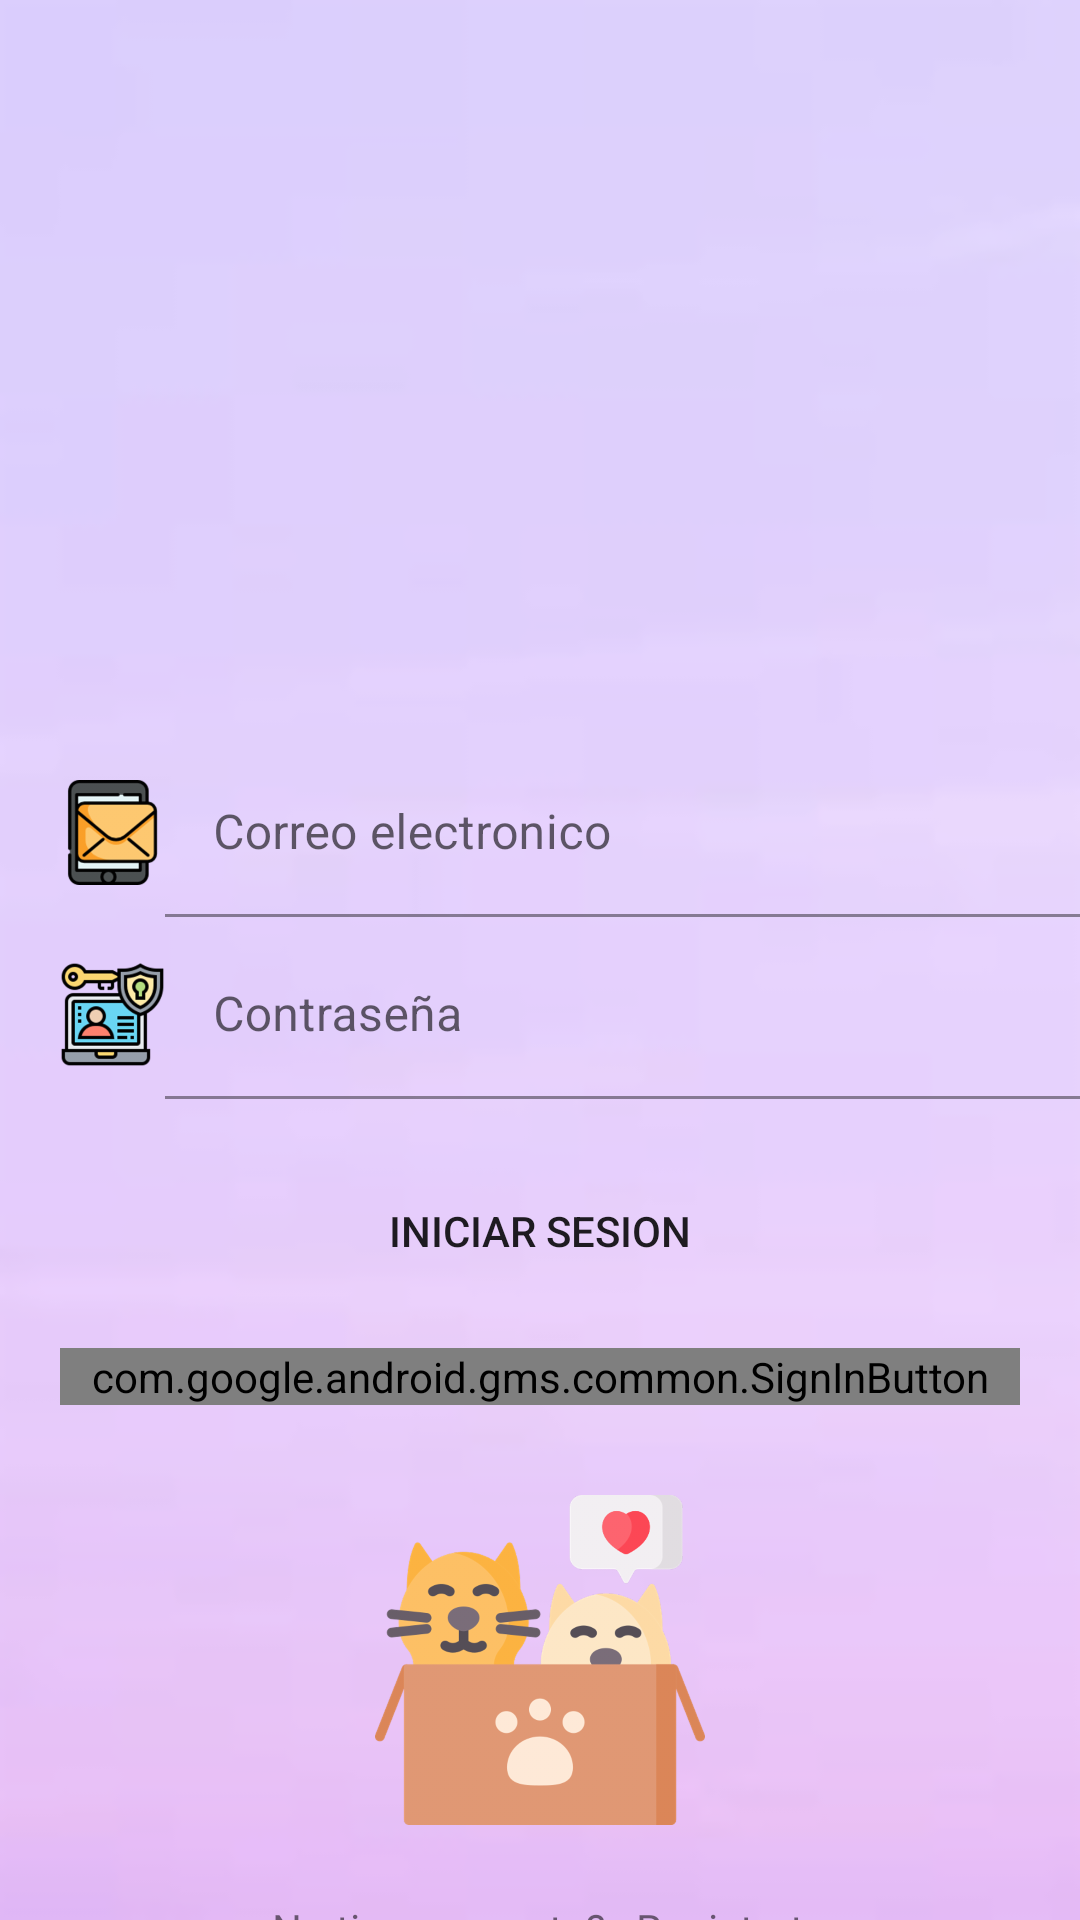

Icon bounding boxes for this 1080 × 1920 phone screenshot, format (x1, y1, x2, y2):
kitten: (375, 1495, 705, 1825)
